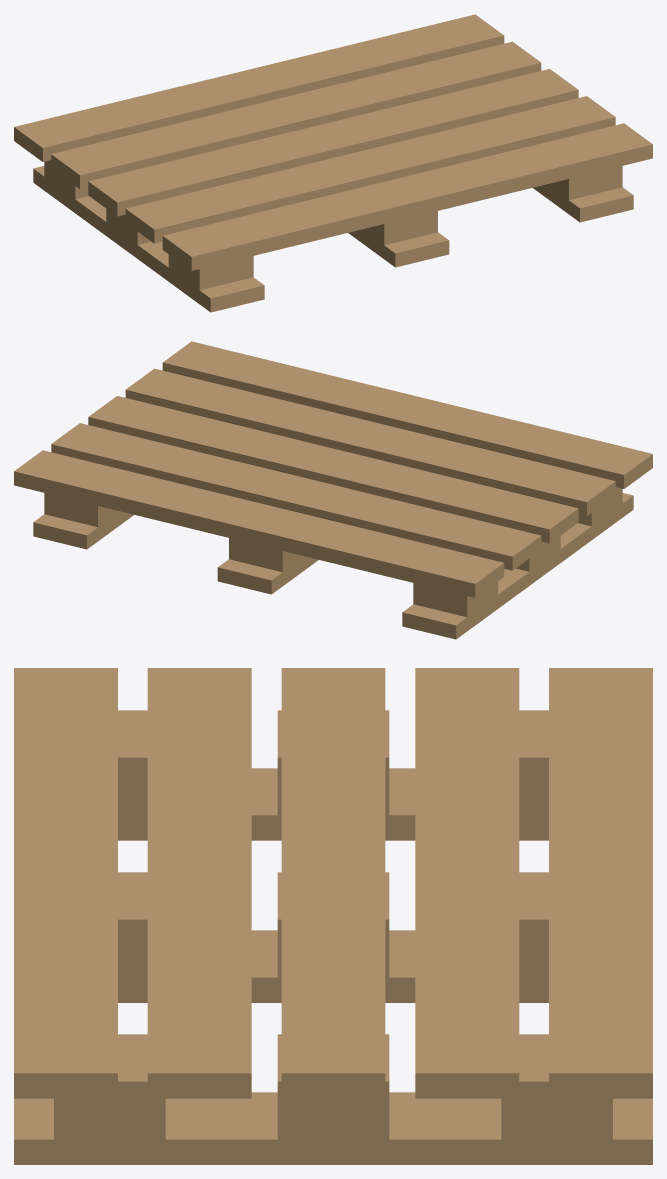
File: pallet.v1.glb
3 views of the same model, one above another, from view 1: azimuth 30°, elevation 25°; view 2: azimuth 150°, elevation 25°; view 3: azimuth 270°, elevation 25° (orthographic). The views are drawn at different scales.
Visible parts, largest first — view 1: mesh_board_4, mesh_board_0, mesh_board_3, mesh_board_1, mesh_board_2, mesh_runner_-0.48, mesh_runner_0, mesh_runner_0.48, mesh_block_-0.48_0.28, mesh_block_0.48_0.28, mesh_block_0_0.28, mesh_block_-0.48_-0.28 (+1 smaller); view 2: mesh_board_0, mesh_board_4, mesh_board_1, mesh_board_2, mesh_board_3, mesh_runner_-0.48, mesh_runner_0, mesh_runner_0.48, mesh_block_-0.48_-0.28, mesh_block_0.48_-0.28, mesh_block_0_-0.28, mesh_block_-0.48_0.28 (+1 smaller); view 3: mesh_board_1, mesh_board_2, mesh_board_3, mesh_board_0, mesh_board_4, mesh_runner_0.48, mesh_block_0.48_-0.28, mesh_block_0.48_0.28, mesh_runner_-0.48, mesh_runner_0, mesh_block_0.48_0, mesh_block_-0.48_-0.28 (+5 smaller).
Part boxes in pixels (left/top/right/bottom): mesh_board_4: left=162, top=123, right=652, bottom=270; mesh_board_0: left=14, top=14, right=504, bottom=161; mesh_board_3: left=125, top=96, right=615, bottom=243; mesh_board_1: left=51, top=41, right=541, bottom=189; mesh_board_2: left=88, top=69, right=578, bottom=216; mesh_runner_-0.48: left=33, top=166, right=264, bottom=312; mesh_runner_0: left=348, top=229, right=449, bottom=267; mesh_runner_0.48: left=533, top=184, right=633, bottom=222; mesh_block_-0.48_0.28: left=168, top=254, right=253, bottom=290; mesh_block_0.48_0.28: left=547, top=166, right=622, bottom=200; mesh_block_0_0.28: left=363, top=211, right=437, bottom=245; mesh_block_-0.48_-0.28: left=44, top=160, right=88, bottom=199; mesh_board_0: left=14, top=450, right=504, bottom=597; mesh_board_4: left=162, top=341, right=652, bottom=488; mesh_board_1: left=51, top=423, right=541, bottom=570; mesh_board_2: left=88, top=396, right=578, bottom=543; mesh_board_3: left=125, top=368, right=615, bottom=516; mesh_runner_-0.48: left=402, top=493, right=633, bottom=639; mesh_runner_0: left=217, top=556, right=318, bottom=594; mesh_runner_0.48: left=33, top=511, right=133, bottom=549; mesh_block_-0.48_-0.28: left=413, top=581, right=498, bottom=617; mesh_block_0.48_-0.28: left=44, top=493, right=119, bottom=527; mesh_block_0_-0.28: left=229, top=538, right=303, bottom=572; mesh_block_-0.48_0.28: left=578, top=487, right=622, bottom=526; mesh_board_1: left=415, top=668, right=519, bottom=1098; mesh_board_2: left=281, top=668, right=385, bottom=1098; mesh_board_3: left=147, top=668, right=251, bottom=1098; mesh_board_0: left=549, top=668, right=652, bottom=1098; mesh_board_4: left=14, top=668, right=117, bottom=1098; mesh_runner_0.48: left=14, top=1092, right=652, bottom=1164; mesh_block_0.48_-0.28: left=501, top=1034, right=612, bottom=1139; mesh_block_0.48_0.28: left=54, top=1034, right=165, bottom=1139; mesh_runner_-0.48: left=118, top=768, right=548, bottom=840; mesh_runner_0: left=118, top=930, right=548, bottom=1002; mesh_block_0.48_0: left=277, top=1034, right=389, bottom=1139; mesh_block_-0.48_-0.28: left=519, top=710, right=548, bottom=815.
Bounding box in the file's own units: 1.2 × 0.15 × 0.8.
